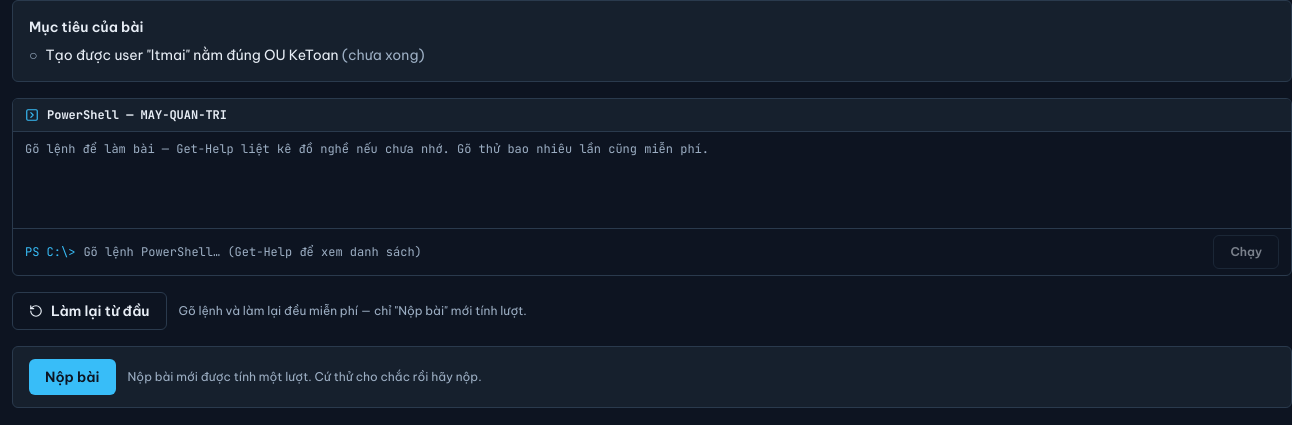
Test: terminal PowerShell › Làm lại từ đầu trả nguyên thế giới ban đầu — user vừa tạo biến mất
The image size is (1292, 425).
Type "New-ADUser -Name \"Le Thi Mai\" -SamAccountName ltmai -Path \"OU=KeToan,DC=noibo,DC=vn\"" into the field named "Ô gõ lệnh PowerShell".
click(644, 252); type("New-ADUser -Name \"Le Thi Mai\" -SamAccountName ltmai -Path \"OU=KeToan,DC=noibo,DC=vn\"")  # box [83,240,1205,264]
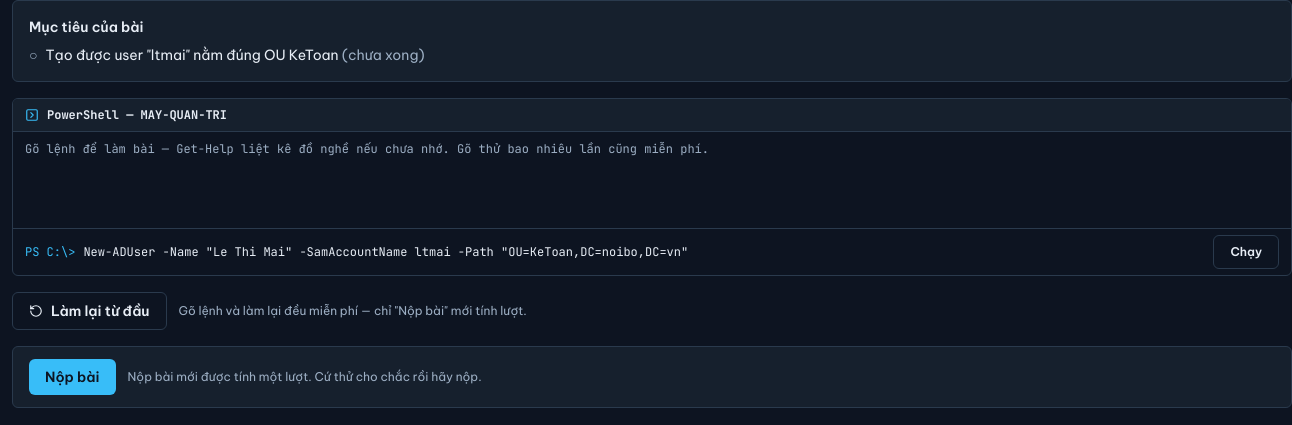
Click the button "Chạy".
click(1246, 252)  # box [1213,235,1279,269]
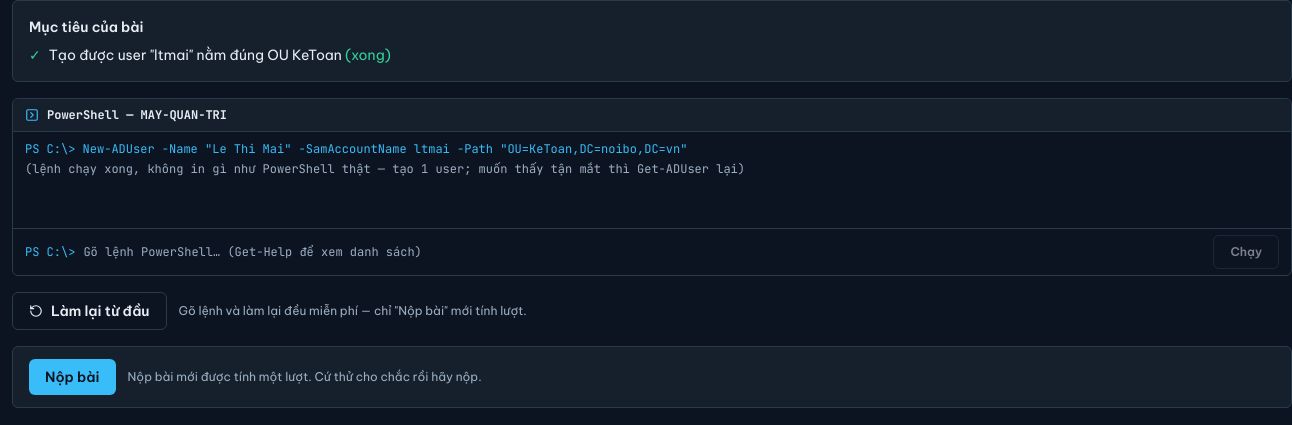
Result: the text "(xong)" is shown at [345,46,391,64]
Click the button "Làm lại từ đầu".
click(89, 311)  # box [12,292,166,330]
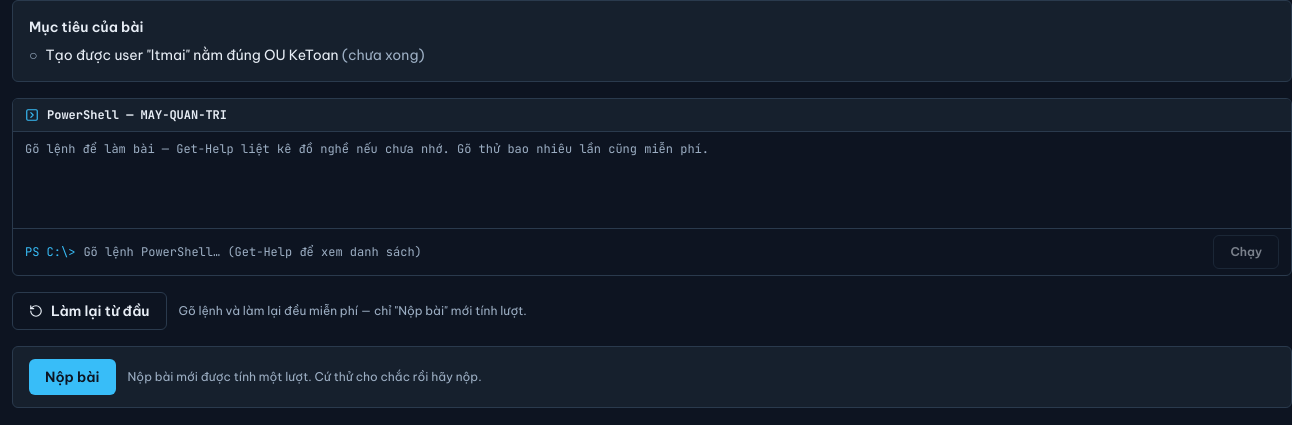
Result: the text "(chưa xong)" is shown at [342,46,425,64]
Result: the text "không in gì như PowerShell thật" is gone
